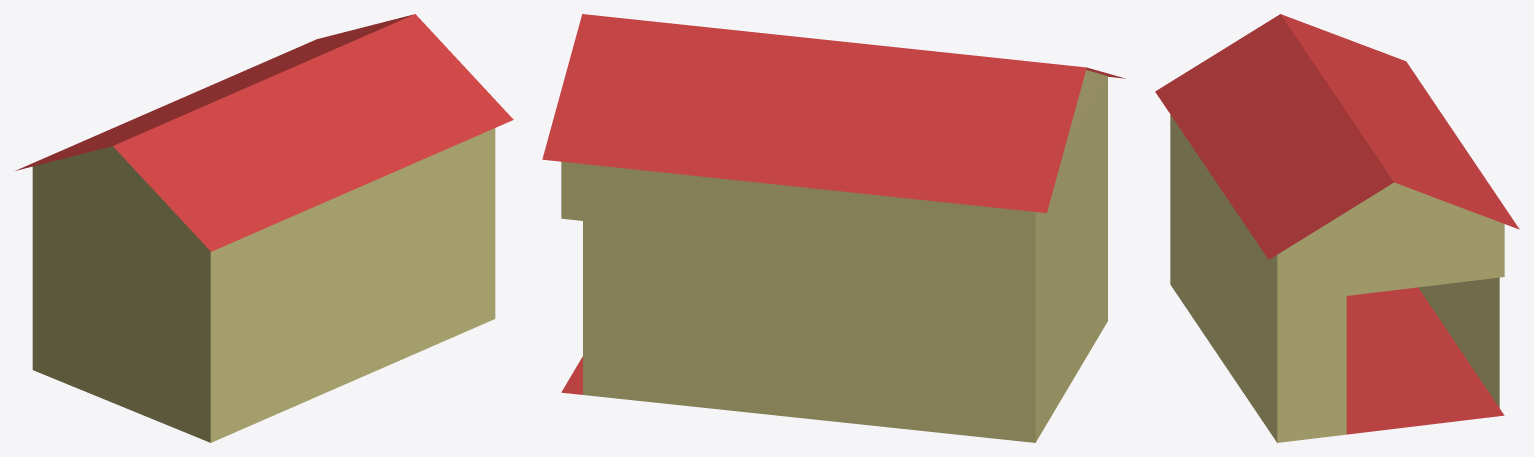
3 renders of one model, left to right at view 1: azimuth 30°, elevation 25°; view 2: azimuth 150°, elevation 25°; view 3: azimuth 270°, elevation 25°, orthographic. The views are drawn at different scales.
Bounding box in the file's own units: 18.98 × 14.72 × 11.22.
